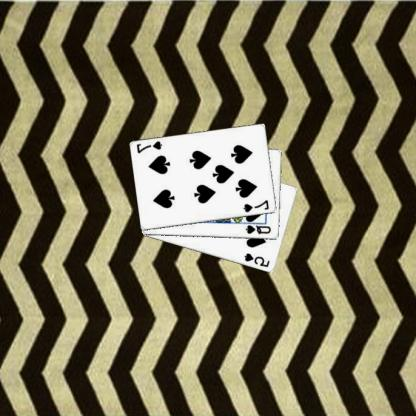5S: (244, 250, 273, 268)
7S: (243, 198, 272, 214), (136, 139, 165, 155)
QS: (245, 222, 274, 236)
